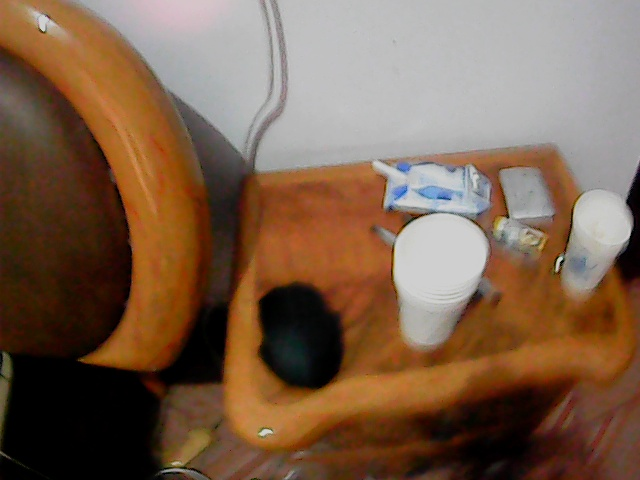cup: (392, 208, 483, 348)
mouse: (254, 278, 342, 388)
